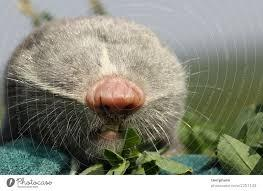rat: (1, 13, 194, 180)
